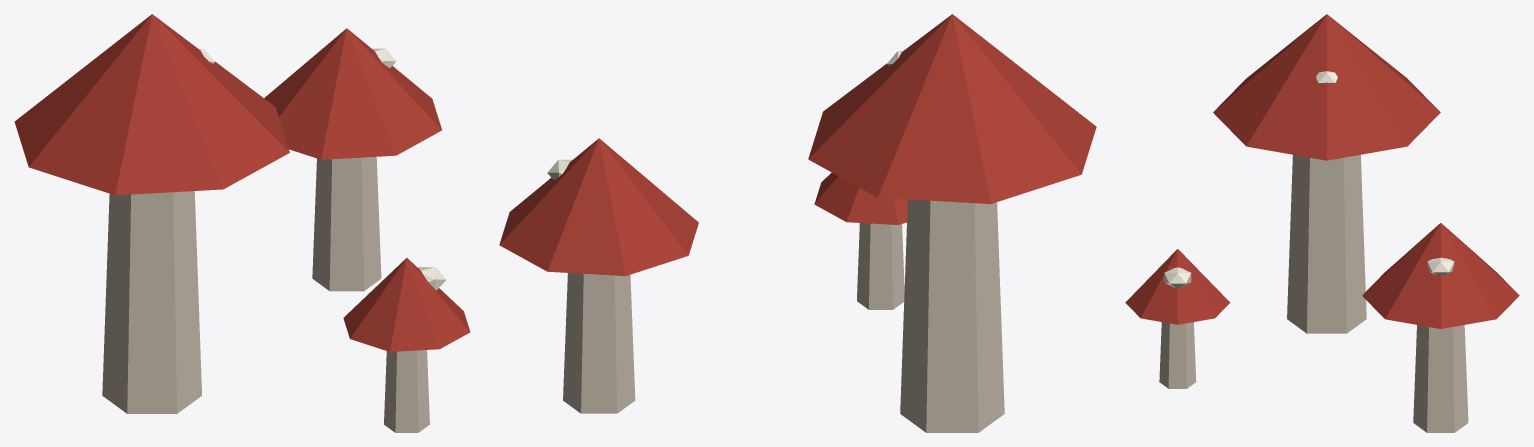
File: nat-cogumelos.gltf
The picture shows the model from 3 angles, left to right: view 1: azimuth 30°, elevation 25°; view 2: azimuth 150°, elevation 25°; view 3: azimuth 270°, elevation 25°; orthographic projection. The views are drawn at different scales.
Parts seen in each view (by area): view 1: nat-cogumelos; view 2: nat-cogumelos; view 3: nat-cogumelos.
Boxes of the visible parts, x1,y1,x2,y2 form: nat-cogumelos: (14, 14, 470, 432); nat-cogumelos: (499, 14, 1096, 432); nat-cogumelos: (1125, 14, 1519, 432).
Size of the model in its own units: 0.5 by 0.384 by 0.45.
